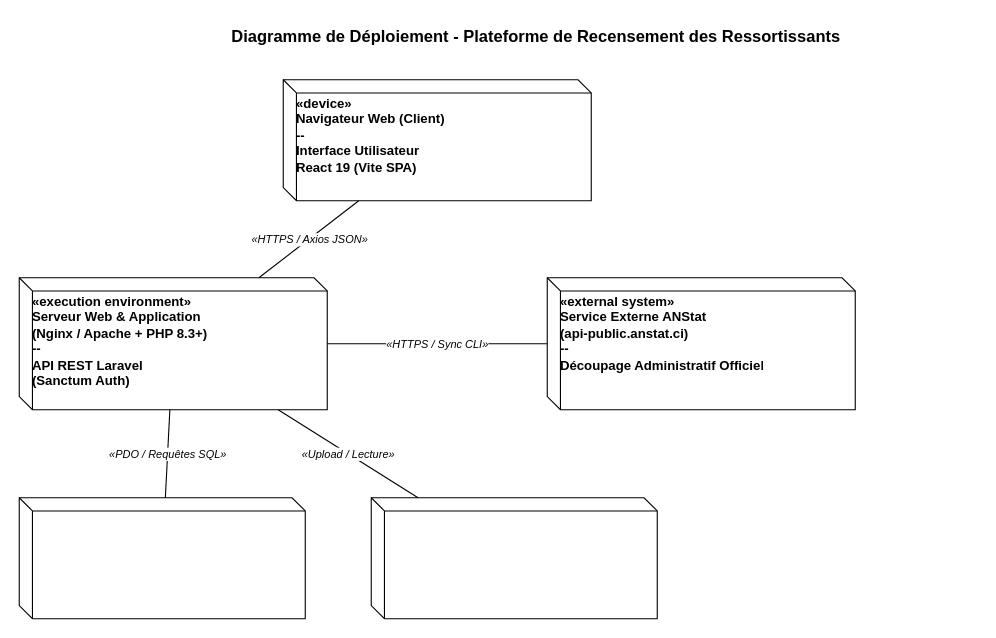
Some shapes in this 996 by 638 pixel diagram are drawn without their labels. The box of each missing label's shape, as (x1, y1, x2, y2) in pixels:
«database» Serveur BD (SQLite / MySQL) -- Tables & Index 3NF: (18, 497, 305, 619)
«device» Stockage Fichiers (Disk local / Storage) -- Pièces justificatives: (370, 497, 657, 619)
